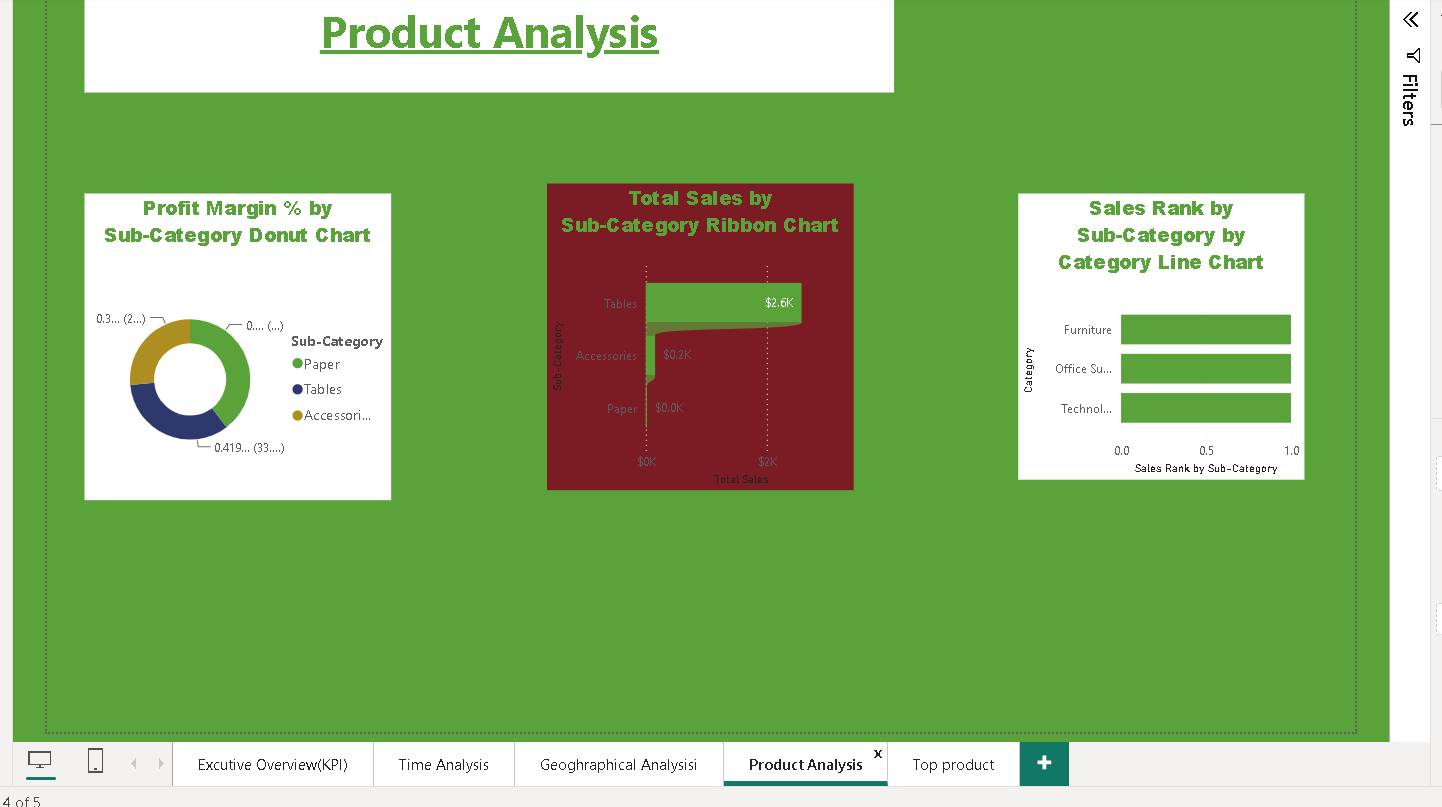

This screenshot's page, from the dashboard's own definition file:
{"tool":"powerbi","page":{"name":"Product Analysis","canvas":[1280,720],"ordinal":3},"visuals":[{"type":"clusteredBarChart","title":"Sales Rank by Sub-Category by Category Line Chart","fields":{"Y":["Fact  Sales.Sales Rank by Sub-Category"],"Category":["Fact  Sales.Category"]},"box":[950.1,193.2,280,280],"z":0},{"type":"barChart","title":"Total Sales by Sub-Category Ribbon Chart","fields":{"Y":["Fact  Sales.Total Sales"],"Category":["Fact  Sales.Sub-Category"]},"box":[489.1,183.4,300,300],"z":1},{"type":"donutChart","title":"Profit Margin % by Sub-Category Donut Chart","fields":{"Y":["Fact  Sales.Profit Margin %"],"Category":["Fact  Sales.Sub-Category"]},"box":[36.7,193.2,300,300],"z":2},{"type":"textbox","box":[36.7,0,792.4,94.2],"z":3}]}

Visuals, with their boxes on the page's 1280x720 design canvas (x1, y1, x2, y2). These are canvas units, not pixel positions in the 1442x807 screenshot, which may show the page scaled, cropped or inside an application window:
"Sales Rank by Sub-Category by Category Line Chart" clusteredBarChart: detection(950, 193, 1230, 473)
"Total Sales by Sub-Category Ribbon Chart" barChart: detection(489, 183, 789, 483)
"Profit Margin % by Sub-Category Donut Chart" donutChart: detection(37, 193, 337, 493)
textbox: detection(37, 0, 829, 94)
